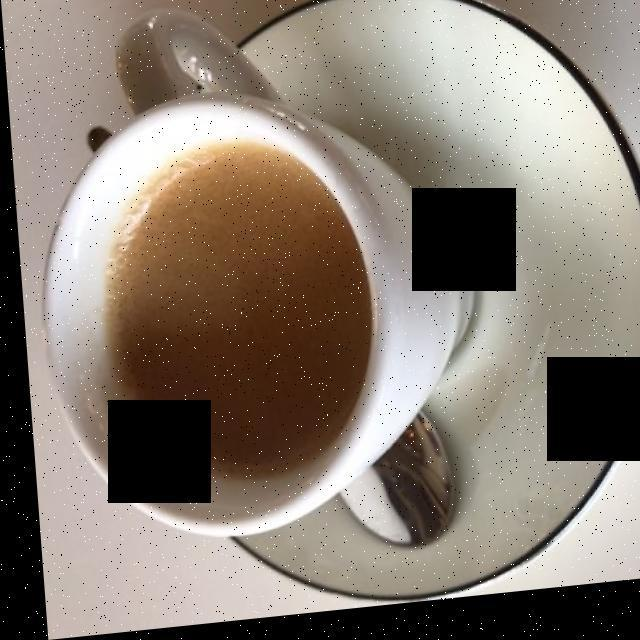coffee: (96, 151, 357, 485)
